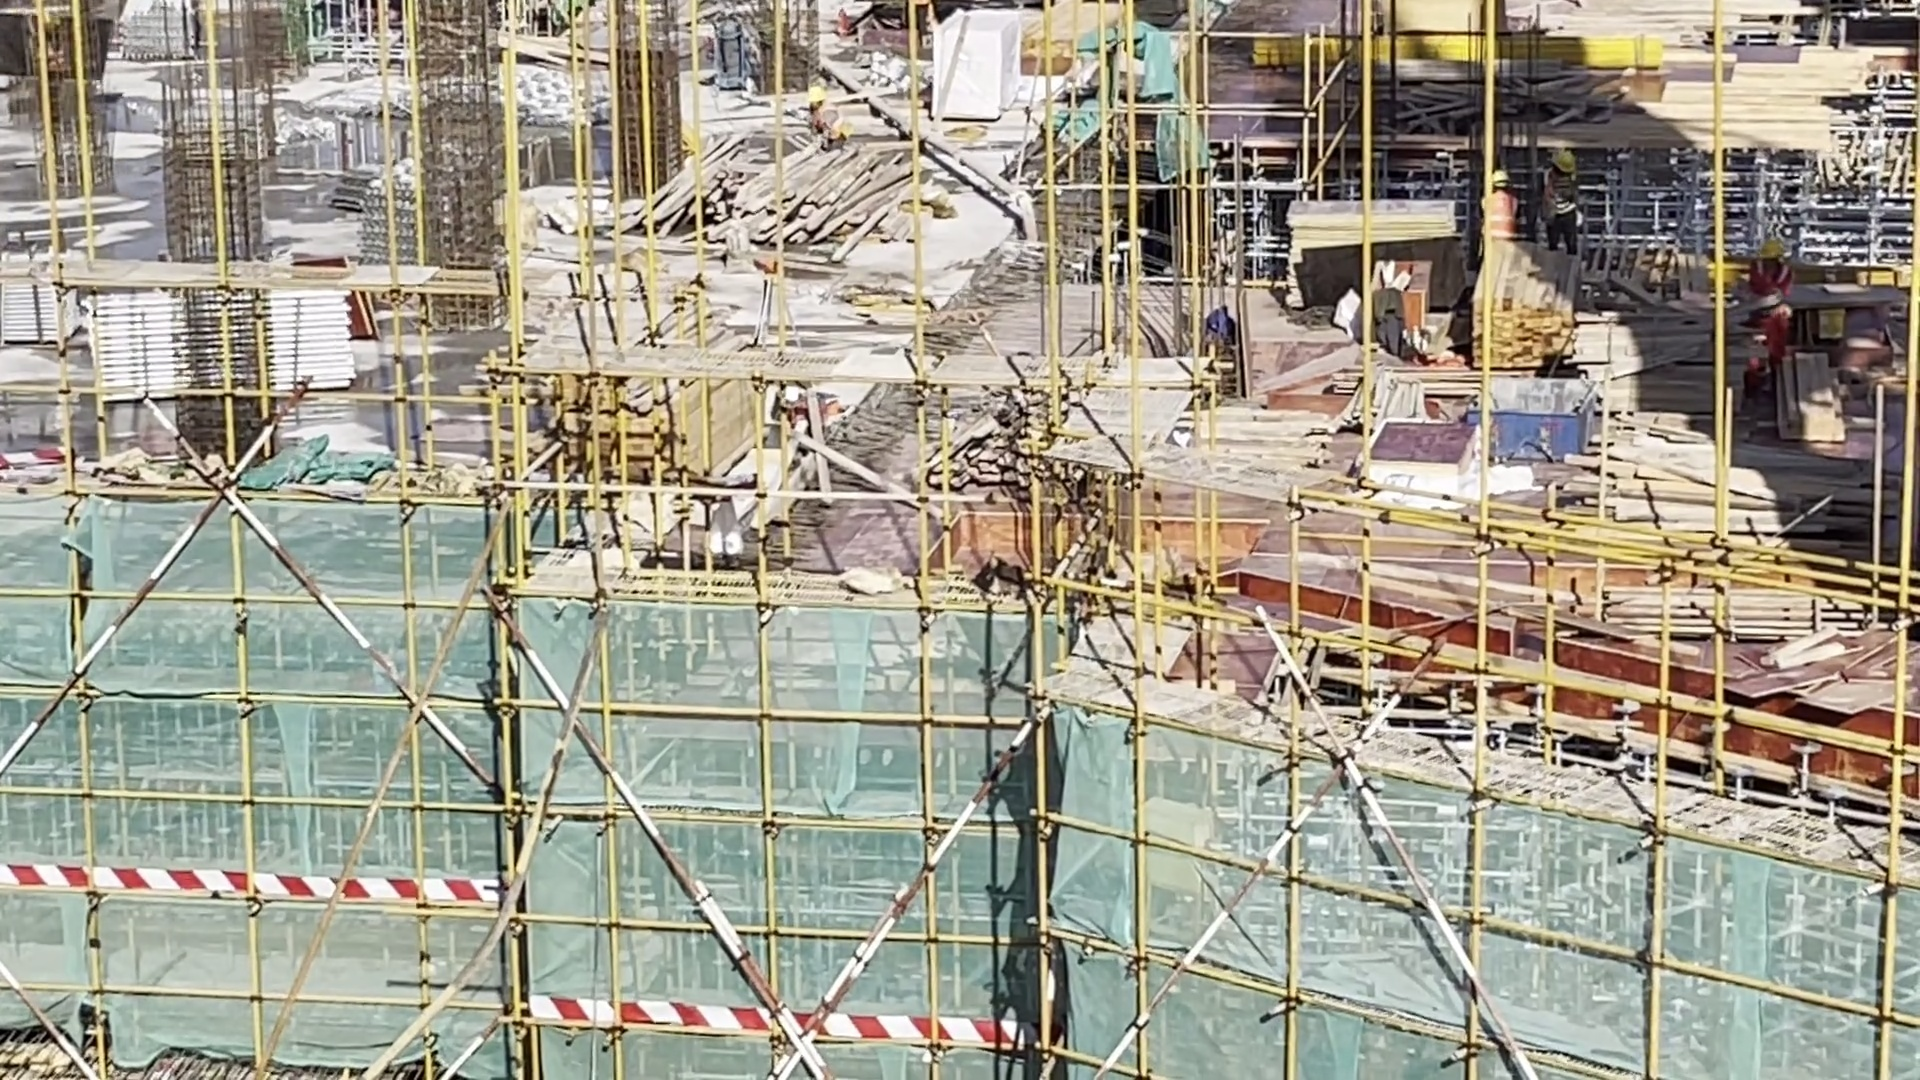board: (1741, 612, 1920, 722)
helmet: (777, 384, 807, 414), (1754, 232, 1782, 264), (1488, 166, 1512, 197), (1549, 147, 1568, 172)
hopper: (1478, 371, 1626, 475)
person: (1541, 147, 1596, 252), (774, 378, 849, 437), (1741, 281, 1786, 368), (1486, 163, 1520, 247), (1751, 231, 1794, 285)
scaffold: (88, 294, 347, 401), (6, 257, 107, 356)
wood: (507, 275, 758, 490), (625, 129, 934, 275), (1456, 271, 1607, 392), (1596, 578, 1841, 649)
